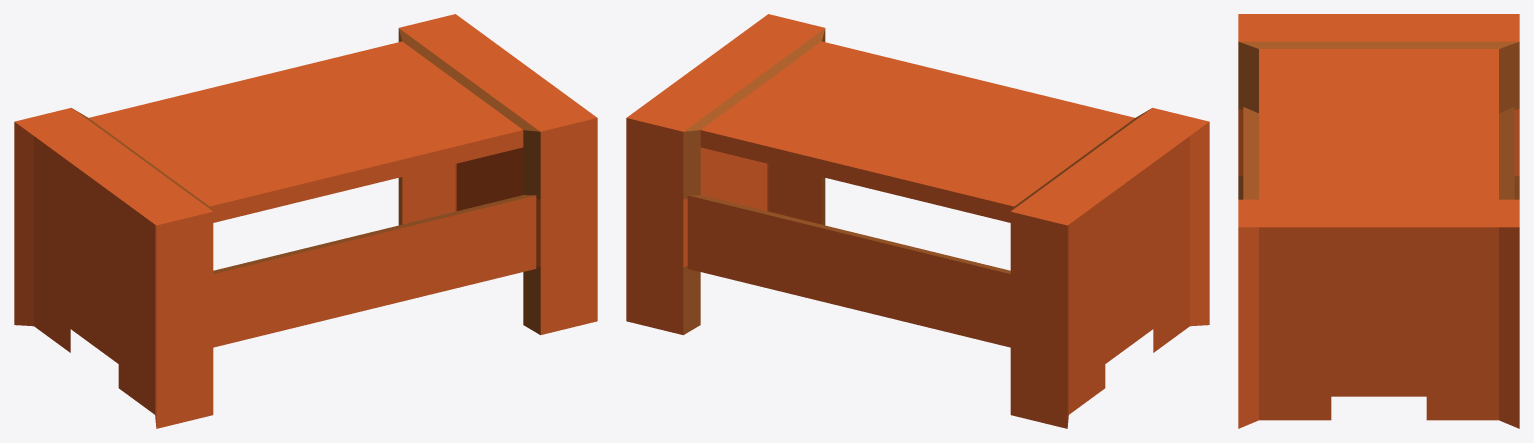
Rendered from Crate.gltf.
3 renders of one model, left to right at view 1: azimuth 30°, elevation 25°; view 2: azimuth 150°, elevation 25°; view 3: azimuth 270°, elevation 25°, orthographic.
Parts seen in each view (by area): view 1: crate; view 2: crate; view 3: crate.
Boxes of the visible parts, x1,y1,x2,y2 form: crate: [14, 14, 597, 428]; crate: [626, 14, 1209, 428]; crate: [1238, 14, 1519, 428].
Size of the model in its own units: 0.4715 by 0.2077 by 0.2627.
1 material, 1 textured.
